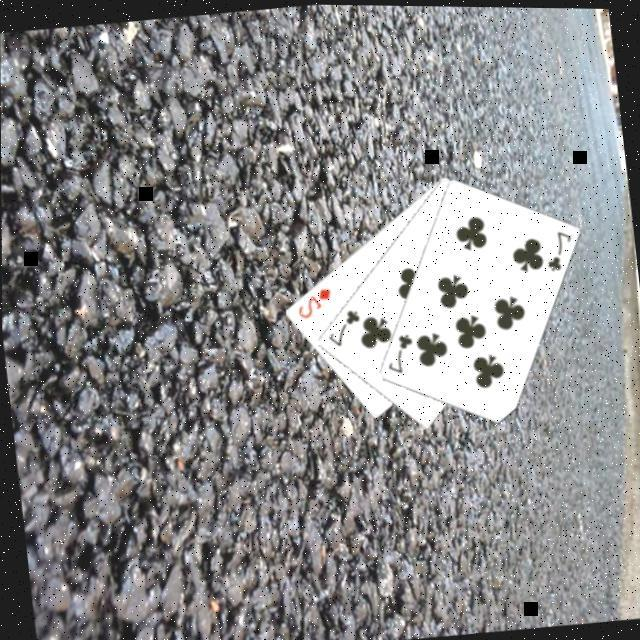2D: (294, 283, 337, 322)
7C: (323, 304, 367, 351), (540, 224, 580, 274), (382, 329, 419, 376)
